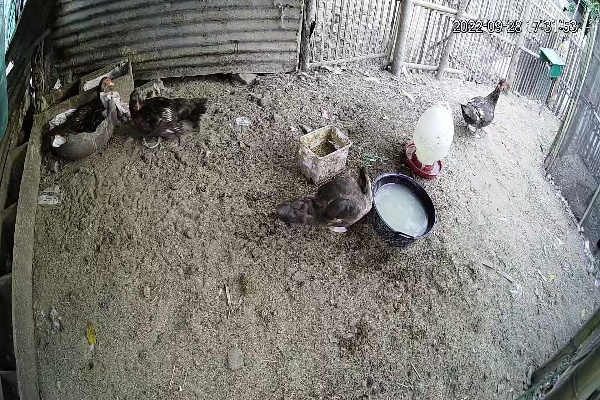Entog: (275, 161, 376, 239), (122, 84, 213, 147), (457, 76, 513, 138)
